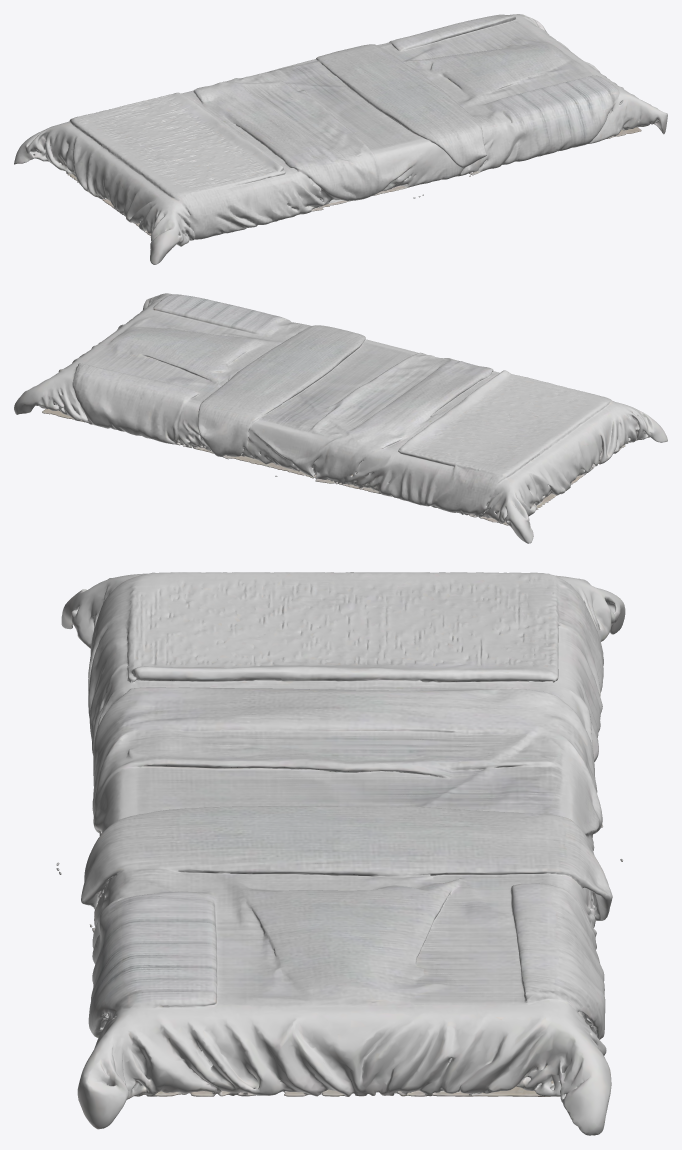
Rendered from gen_09ac7f7c30c2.glb.
3 renders of one model, top to bottom at view 1: azimuth 30°, elevation 25°; view 2: azimuth 150°, elevation 25°; view 3: azimuth 270°, elevation 25°, orthographic. The views are drawn at different scales.
Visible parts, largest first — view 1: world; view 2: world; view 3: world.
Boxes of the visible parts, <box> form: world: <box>14,14,667,264</box>; world: <box>14,293,667,543</box>; world: <box>56,572,625,1135</box>.
Bounding box in the file's own units: 1 × 0.0938 × 0.471.
Materials: 1 (1 with a texture image).
